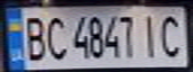4: (66, 12, 90, 61), (103, 11, 121, 58)
7: (118, 11, 139, 60)
8: (87, 12, 106, 60)
B: (18, 12, 48, 62)
C: (154, 11, 187, 58), (42, 12, 69, 61)
I: (136, 11, 163, 58)
